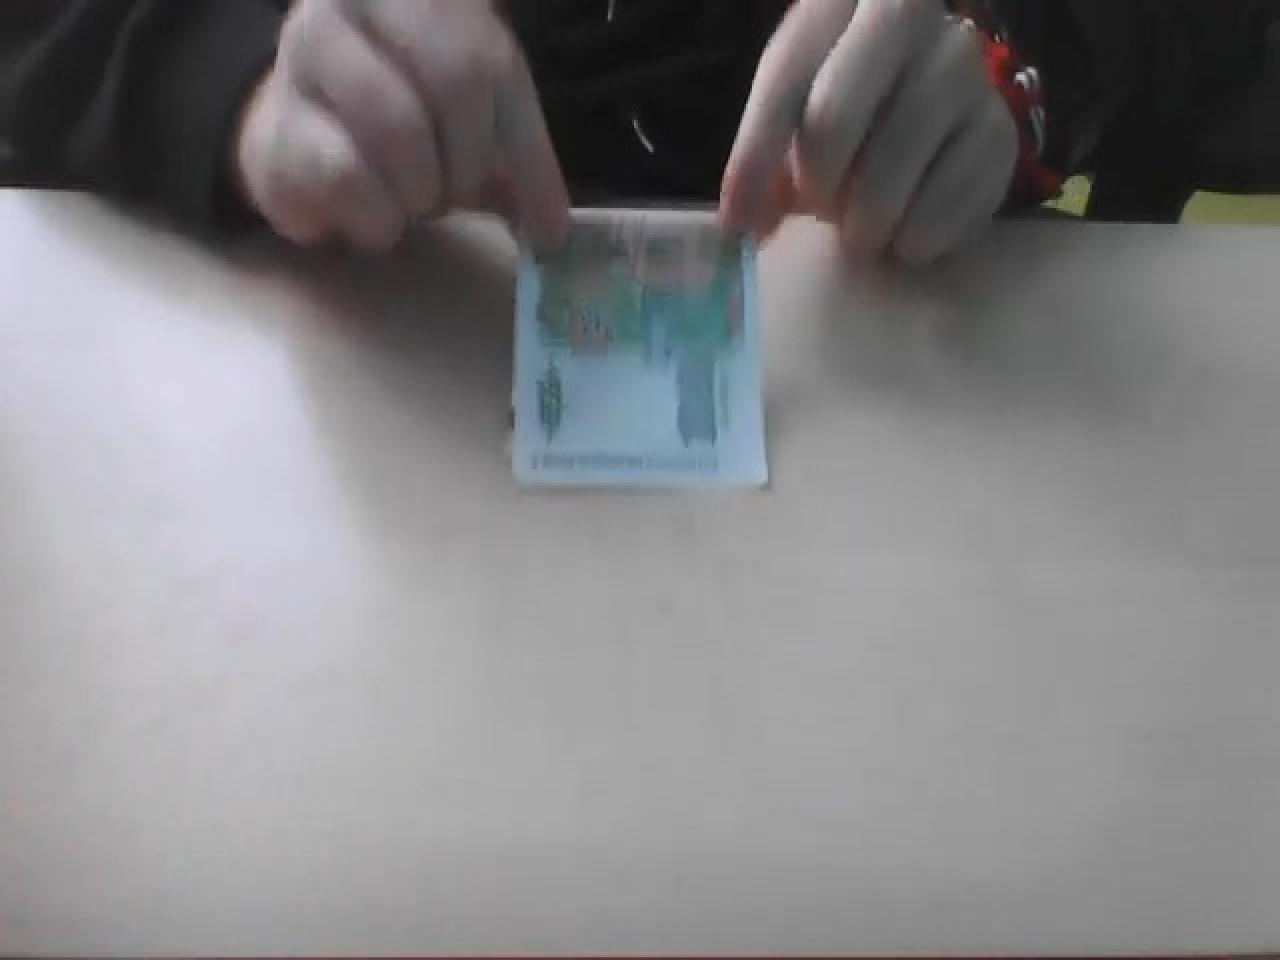100leva: (508, 206, 774, 493)
